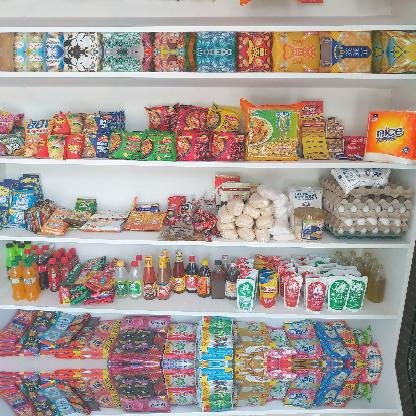Lady-s-Choice: (292, 206, 326, 242)
